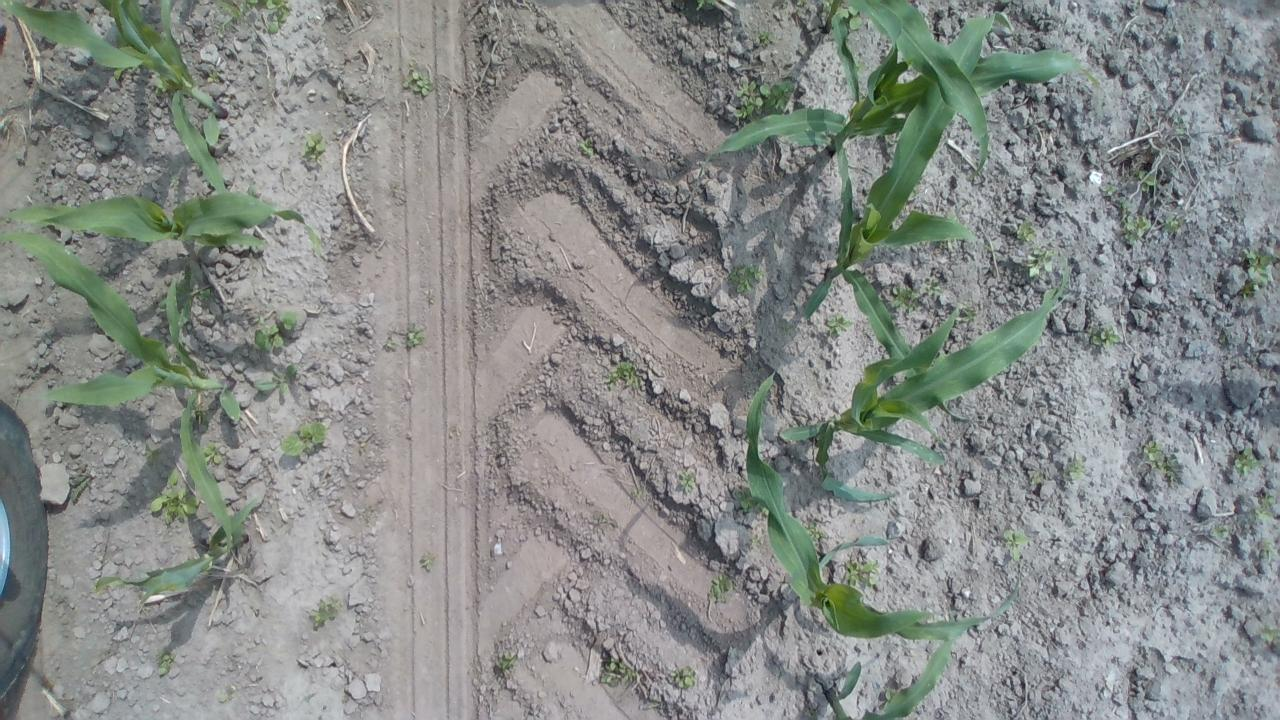Maize: (801, 10, 1016, 420), (0, 229, 242, 556), (746, 369, 1022, 644), (780, 262, 1070, 509), (701, 45, 1104, 159), (0, 1, 232, 198), (821, 0, 990, 181), (0, 192, 322, 258), (94, 494, 263, 613), (826, 633, 959, 720)
Weeds: (733, 73, 795, 116), (149, 471, 199, 523), (1238, 244, 1280, 298), (177, 265, 213, 322), (254, 312, 302, 354), (278, 422, 328, 457), (246, 0, 292, 38), (209, 0, 252, 38), (255, 363, 299, 400), (1140, 439, 1178, 480), (603, 358, 643, 395), (1119, 200, 1152, 244), (727, 261, 766, 297), (309, 596, 344, 634), (599, 654, 637, 688), (402, 58, 434, 98), (1090, 320, 1124, 354), (844, 559, 882, 588), (1248, 489, 1276, 526), (69, 464, 93, 505), (1235, 445, 1265, 477), (1028, 246, 1057, 278), (889, 284, 918, 314), (1064, 446, 1087, 483), (706, 572, 732, 604), (1003, 526, 1026, 562), (300, 132, 323, 166), (826, 312, 854, 338), (734, 486, 759, 515), (156, 647, 178, 679), (668, 664, 697, 687), (1259, 536, 1280, 566), (1014, 219, 1036, 246), (496, 648, 518, 673), (1099, 178, 1121, 202), (204, 442, 224, 467), (407, 322, 425, 349), (1139, 169, 1161, 191), (1258, 622, 1280, 644), (143, 444, 163, 468), (590, 512, 620, 528), (841, 4, 861, 28), (1164, 211, 1184, 234), (678, 469, 696, 494), (923, 274, 942, 296), (808, 520, 826, 541), (578, 136, 595, 158), (694, 1, 722, 14), (382, 332, 399, 353), (1172, 114, 1188, 136), (195, 411, 209, 434), (420, 552, 436, 572), (756, 26, 772, 46), (151, 76, 168, 94), (1210, 523, 1230, 537), (219, 686, 233, 704), (962, 306, 977, 322), (748, 534, 761, 551), (204, 71, 220, 84), (778, 324, 795, 336), (856, 57, 868, 74), (1030, 469, 1042, 486), (630, 488, 643, 500), (168, 176, 180, 185), (804, 709, 816, 716), (359, 443, 367, 453), (650, 702, 660, 710), (1218, 334, 1226, 344), (429, 296, 436, 304), (160, 298, 165, 306), (795, 0, 803, 4)
